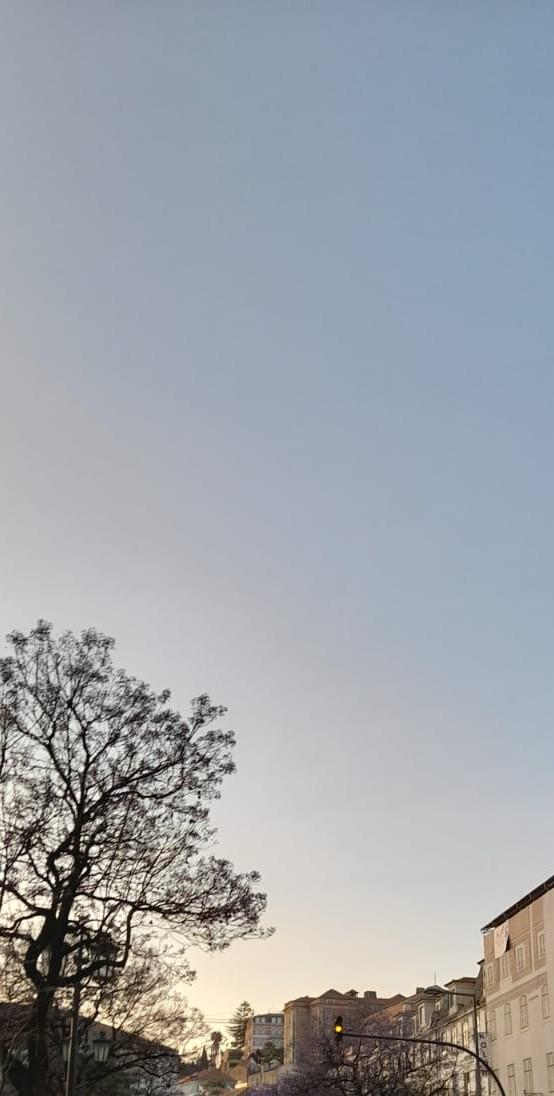yellow_light: (334, 1015, 344, 1040)
